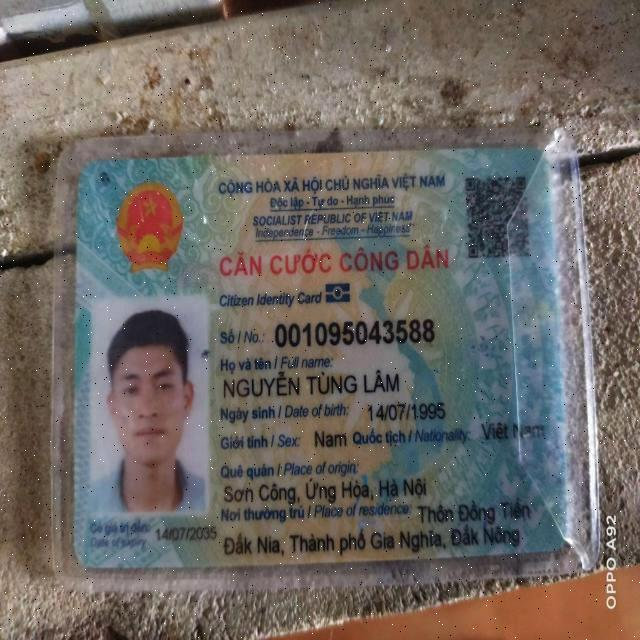current_place: (218, 524, 532, 554), (411, 491, 538, 526)
dob: (363, 391, 456, 429)
expire_date: (149, 520, 222, 551)
gender: (308, 422, 352, 455)
id: (270, 313, 445, 351)
name: (219, 366, 411, 402)
nationality: (473, 409, 559, 449)
origin_place: (213, 471, 447, 506)
